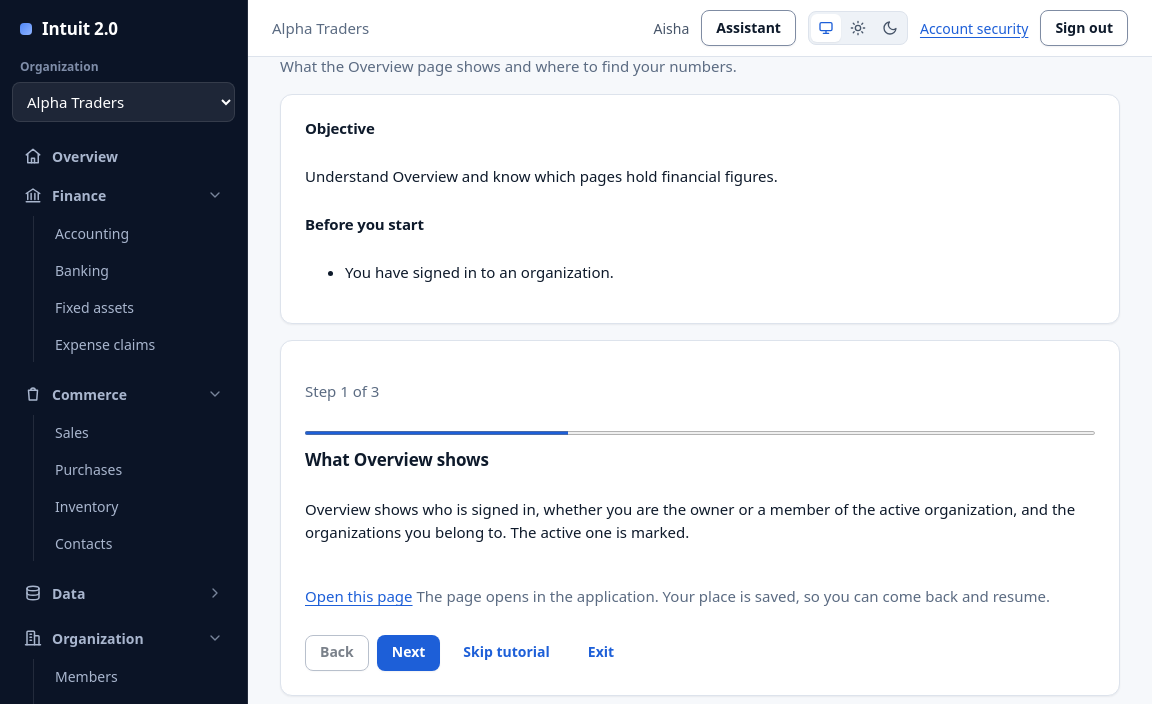
tutorial player › skips the tutorial and offers to start again
(page scrolled)
expect the heading "What Overview shows" is shown: met, box [305, 448, 489, 471]
Click the button "Skip tutorial" at x=507, y=653, box [448, 635, 565, 671]
(page scrolled)
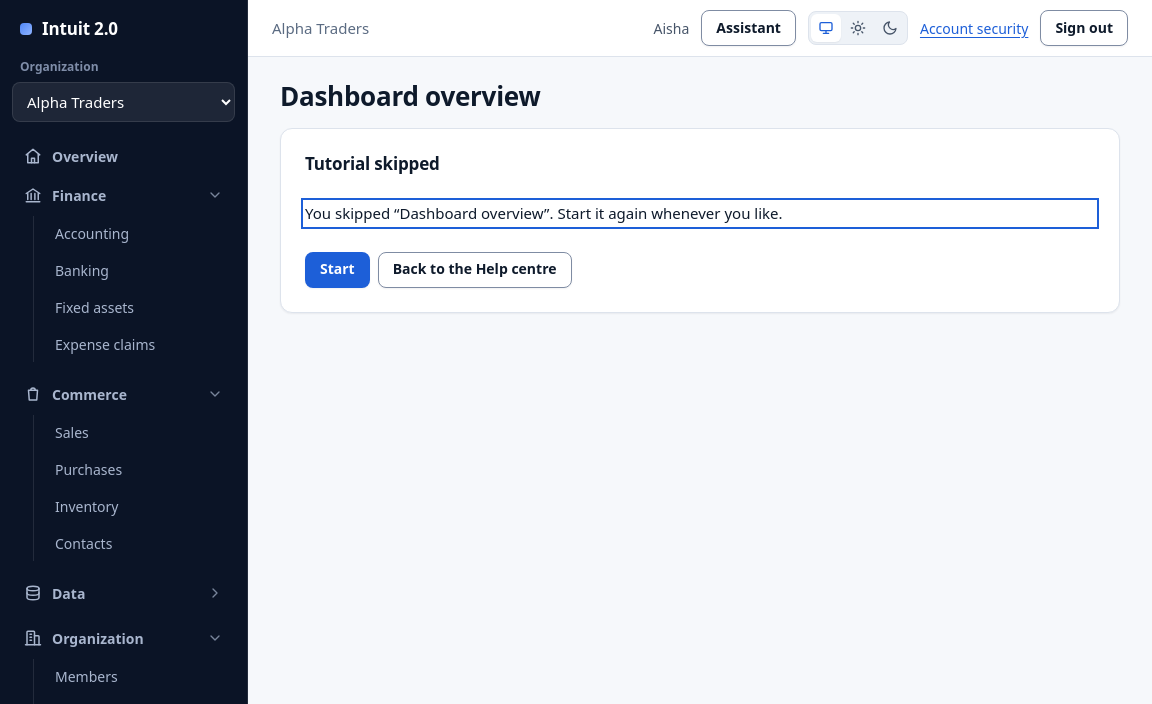
expect the heading "Tutorial skipped" is shown: met, box [305, 153, 440, 175]
expect the button "Start" is shown: met, box [305, 252, 370, 288]
